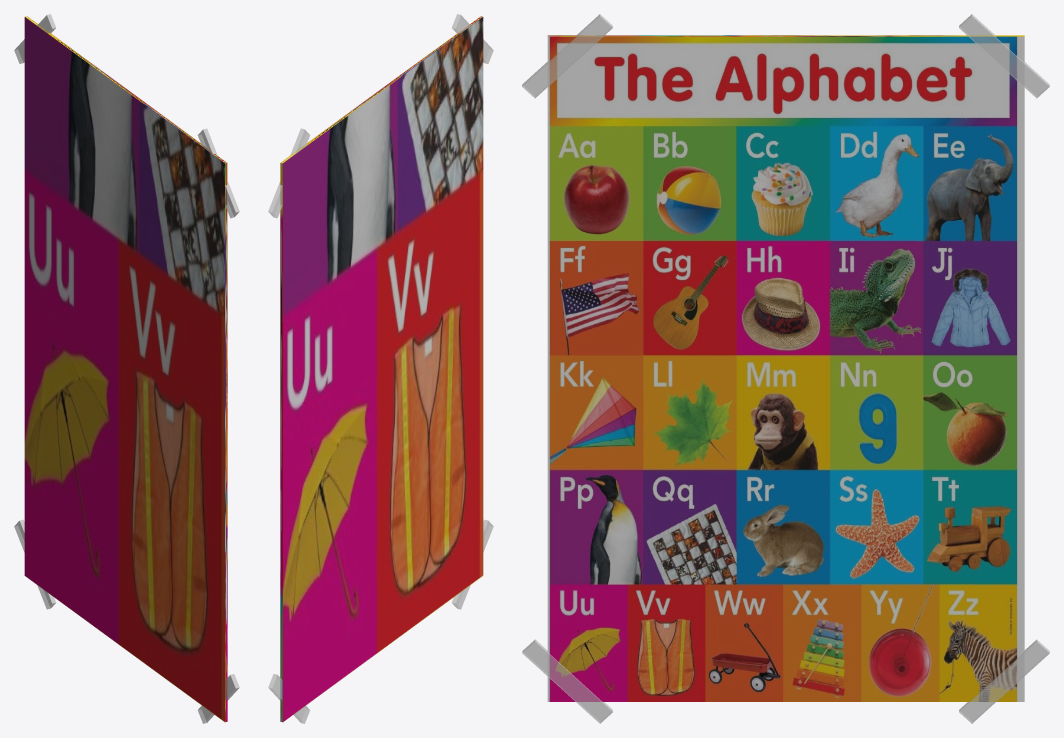
The model's file is Poster.fbx.
The picture shows the model from 3 angles, left to right: view 1: azimuth 30°, elevation 25°; view 2: azimuth 150°, elevation 25°; view 3: azimuth 270°, elevation 25°; orthographic projection. The views are drawn at different scales.
Parts seen in each view (by area): view 1: pCube1, pCube2, pCube4, pCube5, pCube3; view 2: pCube1, pCube3, pCube5, pCube4, pCube2; view 3: pCube1, pCube2, pCube3, pCube4, pCube5.
Boxes of the visible parts, x1,y1,x2,y2 form: pCube1: (24, 16, 227, 722); pCube2: (197, 128, 239, 218); pCube4: (197, 674, 239, 723); pCube5: (14, 519, 56, 609); pCube3: (14, 14, 55, 63); pCube1: (280, 16, 483, 722); pCube3: (268, 128, 310, 218); pCube5: (268, 674, 310, 723); pCube4: (451, 519, 493, 609); pCube2: (451, 14, 493, 63); pCube1: (547, 35, 1024, 701); pCube2: (522, 14, 612, 98); pCube3: (959, 14, 1049, 98); pCube4: (522, 639, 612, 723); pCube5: (959, 639, 1049, 723).
Size of the model in its own units: 0.0156 by 2.13 by 1.44.
Materials: 2 (1 with a texture image).
